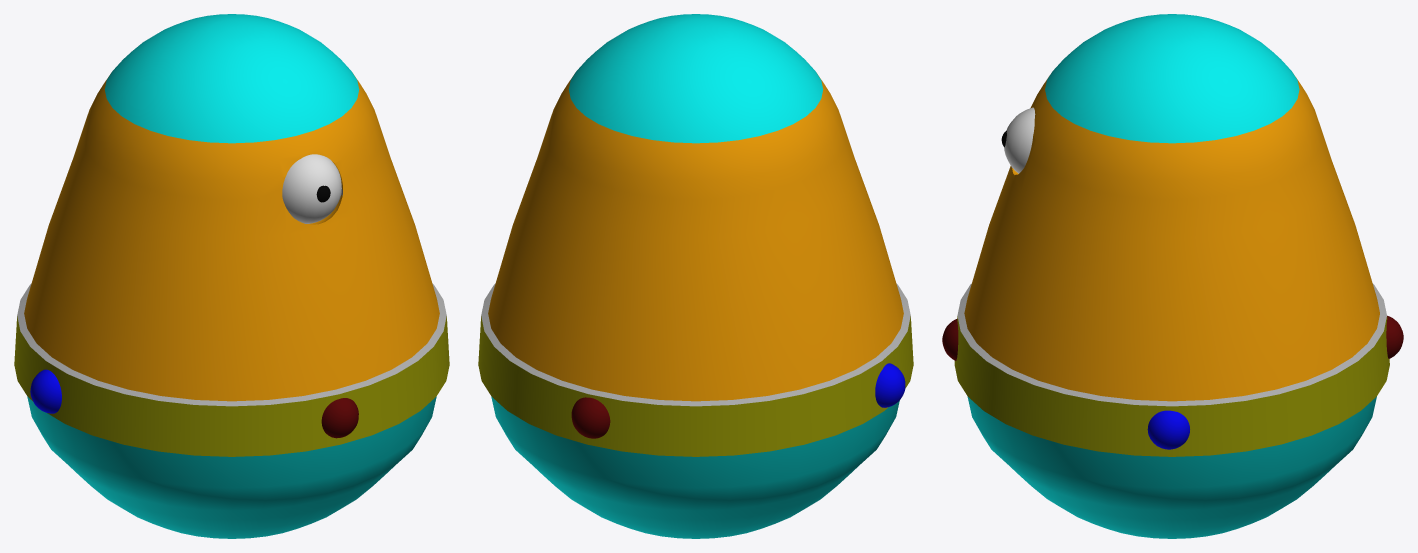
The model's file is machin cartoon.fbx.
The picture shows the model from 3 angles, left to right: view 1: azimuth 30°, elevation 25°; view 2: azimuth 150°, elevation 25°; view 3: azimuth 270°, elevation 25°; orthographic projection.
Visible parts, largest first — view 1: pSphere3, pSphere10, pSphere5, pSphere8; view 2: pSphere3, pSphere7, pSphere8; view 3: pSphere3, pSphere10, pSphere6, pSphere7.
Part boxes in pixels (box(x1,y1,x2,y2)): pSphere3: box(14, 14, 449, 538); pSphere10: box(282, 154, 341, 223); pSphere5: box(321, 398, 358, 438); pSphere8: box(30, 369, 61, 413); pSphere3: box(478, 14, 913, 538); pSphere7: box(571, 397, 610, 438); pSphere8: box(875, 363, 905, 407); pSphere3: box(954, 14, 1389, 538); pSphere10: box(1001, 107, 1035, 173); pSphere6: box(1147, 410, 1189, 449); pSphere7: box(1386, 315, 1403, 358).
Size of the model in its own units: 2.27 by 2.66 by 2.26.
